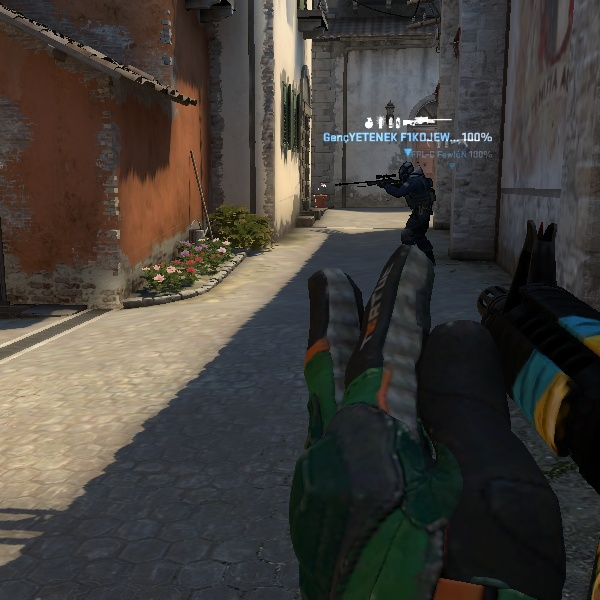ct_body: (380, 153, 439, 279)
